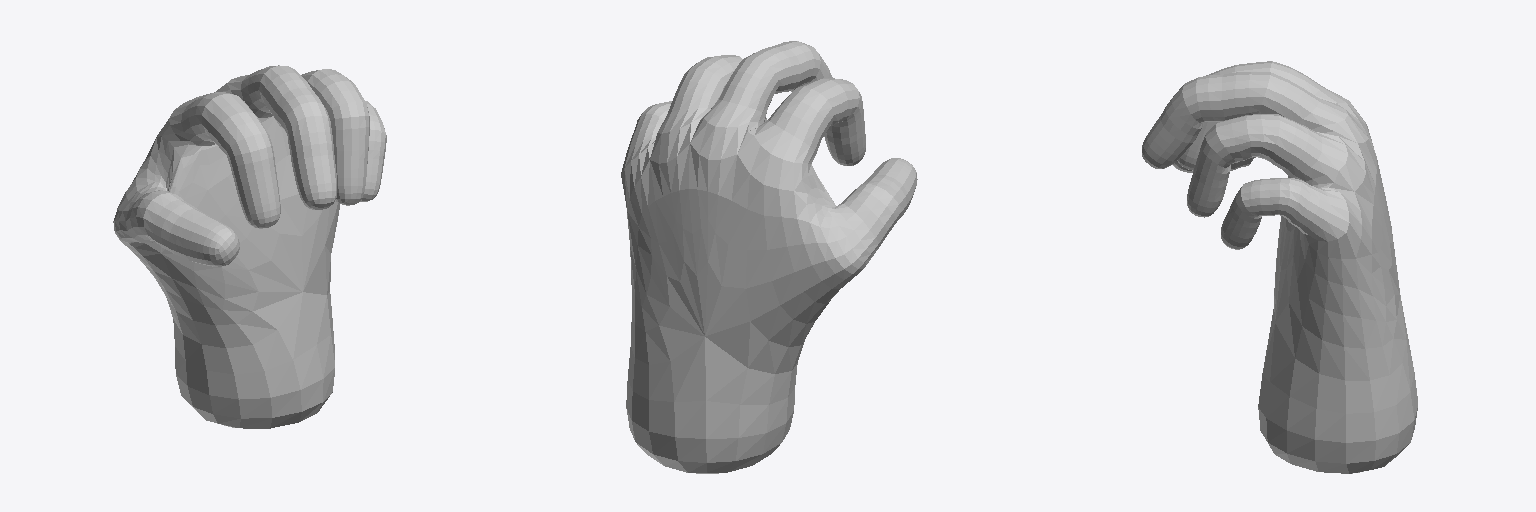
The model's file is handanimatsion49.obj.
3 views of the same model, side by side, from view 1: azimuth 30°, elevation 25°; view 2: azimuth 150°, elevation 25°; view 3: azimuth 270°, elevation 25° (orthographic).
Parts seen in each view (by area): view 1: Cube; view 2: Cube; view 3: Cube.
Boxes of the visible parts, x1,y1,x2,y2 form: Cube: [113, 65, 386, 428]; Cube: [621, 41, 917, 473]; Cube: [1142, 61, 1417, 473].
Bounding box in the file's own units: 3.13 × 4.61 × 3.05.